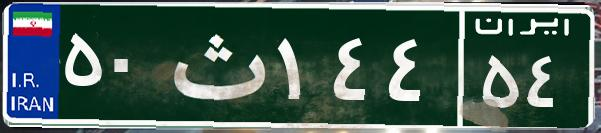0: (110, 28, 158, 105)
1: (273, 28, 330, 110)
4: (385, 28, 445, 110), (330, 28, 385, 110), (525, 38, 570, 115)
5: (57, 26, 110, 107), (475, 38, 525, 113)
ث: (158, 15, 273, 115)
